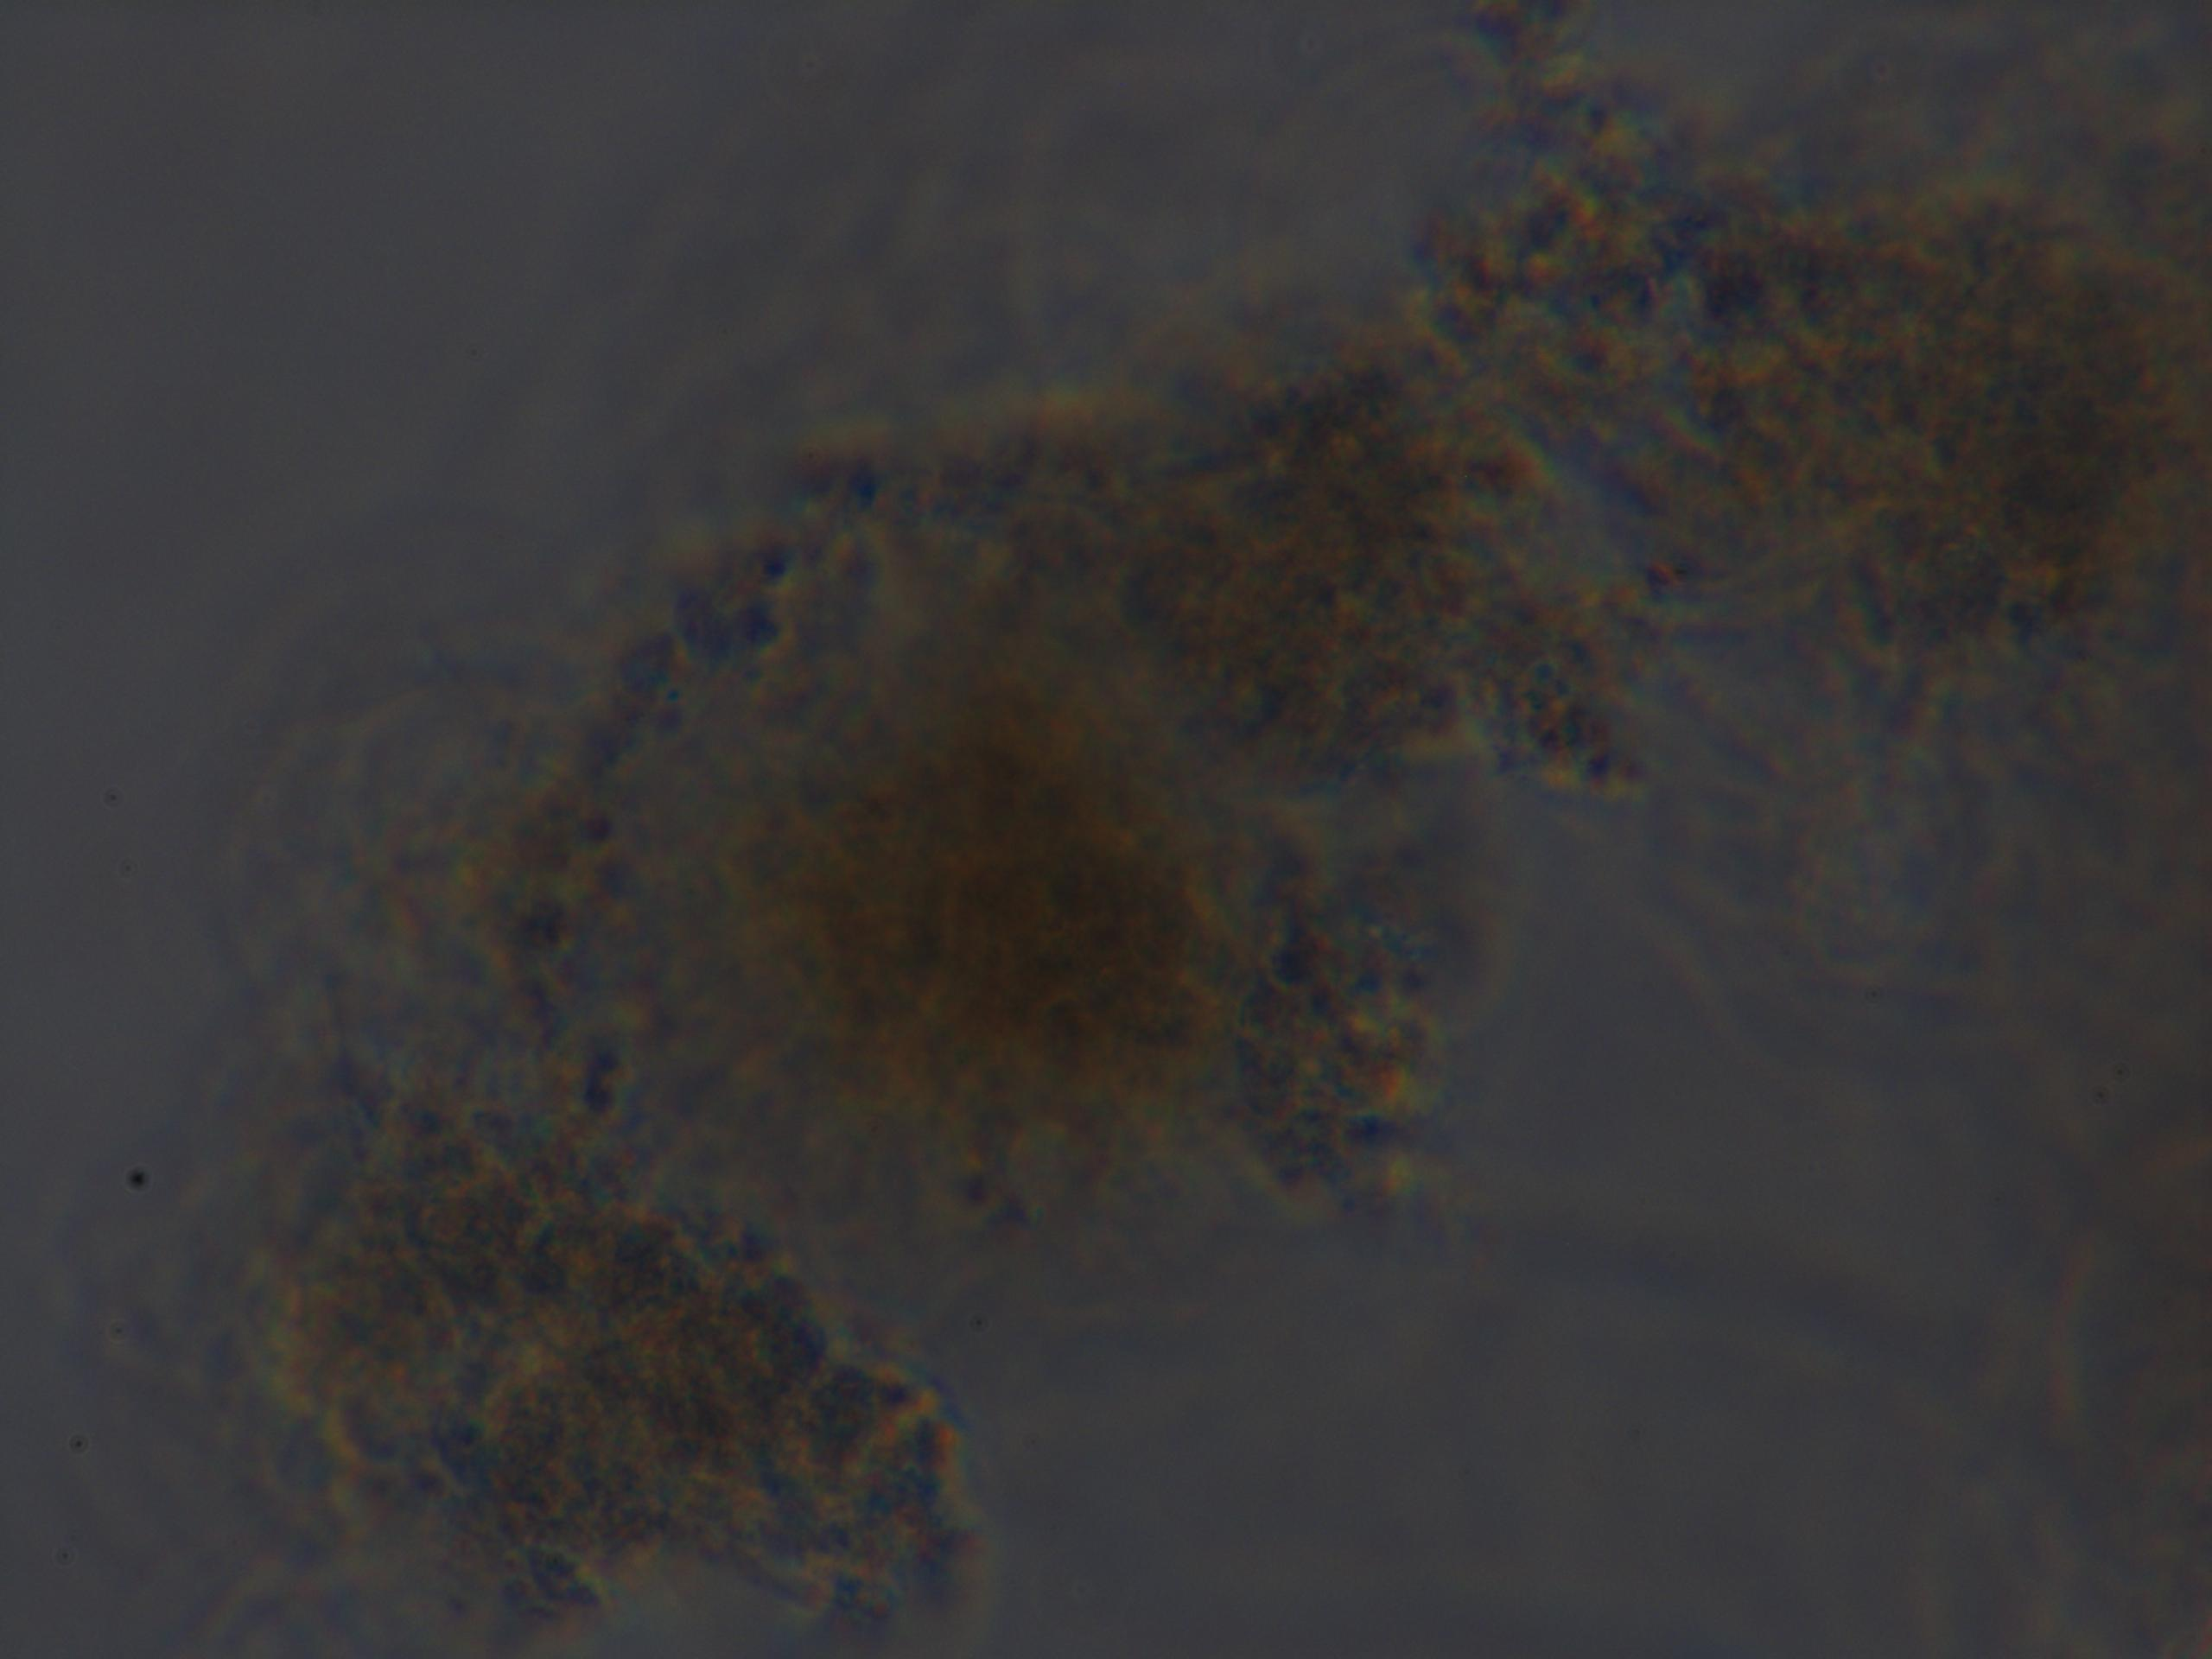open_floc: (258, 80, 2203, 1659)
